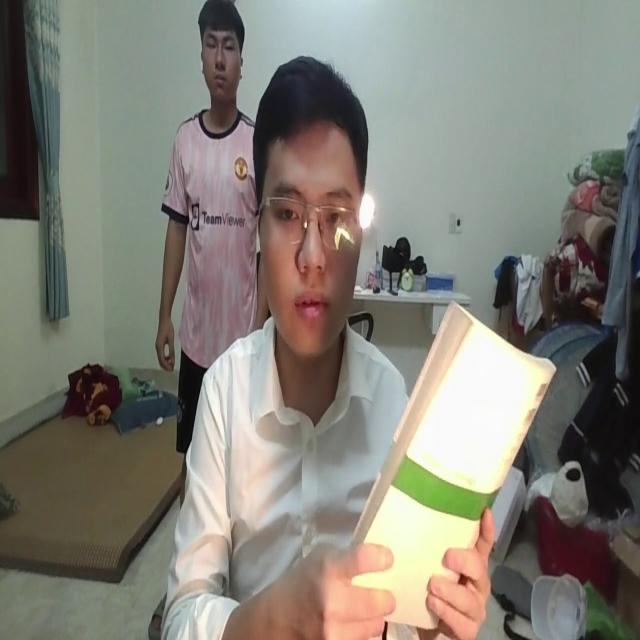book: (347, 284, 560, 620)
extra_person: (148, 1, 276, 465)
student: (176, 77, 411, 640)
